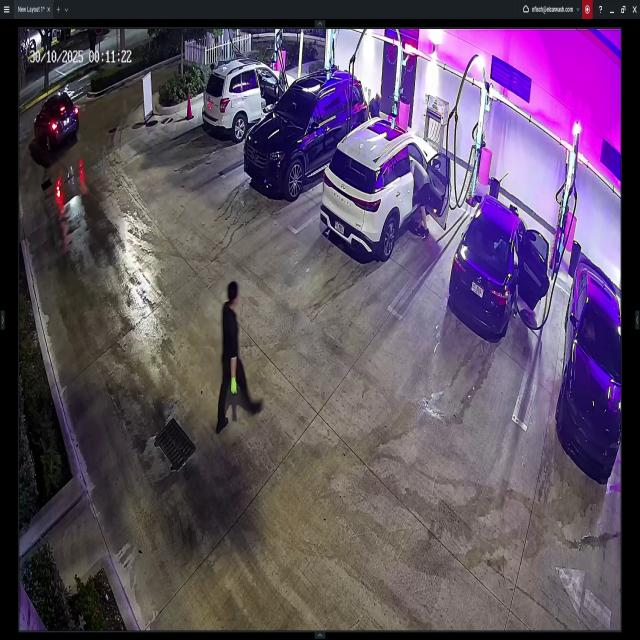Car: (322, 113, 451, 259), (247, 67, 369, 195), (451, 194, 546, 344), (559, 263, 622, 475), (202, 58, 296, 140), (34, 88, 80, 152)
